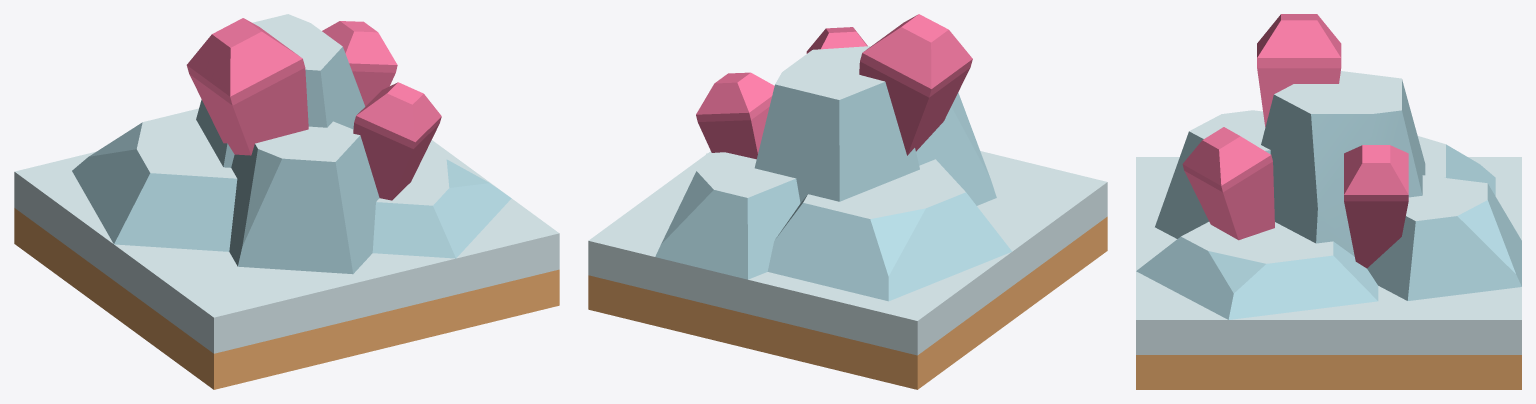
The model's file is snow_tile_crystal.dae.
The picture shows the model from 3 angles, left to right: view 1: azimuth 30°, elevation 25°; view 2: azimuth 150°, elevation 25°; view 3: azimuth 270°, elevation 25°; orthographic projection. The views are drawn at different scales.
Visible parts, largest first — view 1: snow_tile_crystal, rocks, crystal (×3); view 2: rocks, snow_tile_crystal, crystal (×3); view 3: rocks, snow_tile_crystal, crystal (×3).
Part boxes in pixels (x1,y1,x2,y2): snow_tile_crystal: [14, 140, 559, 389]; rocks: [72, 14, 511, 274]; crystal (×3): [186, 18, 441, 200]; rocks: [655, 46, 1011, 301]; snow_tile_crystal: [588, 151, 1107, 389]; crystal (×3): [696, 14, 972, 159]; rocks: [1136, 71, 1521, 319]; snow_tile_crystal: [1136, 157, 1521, 389]; crystal (×3): [1182, 14, 1408, 268].
Size of the model in its own units: 1 by 0.7565 by 1.
